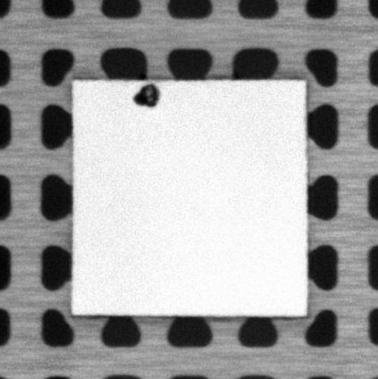DIE_INK: (132, 81, 160, 109)
